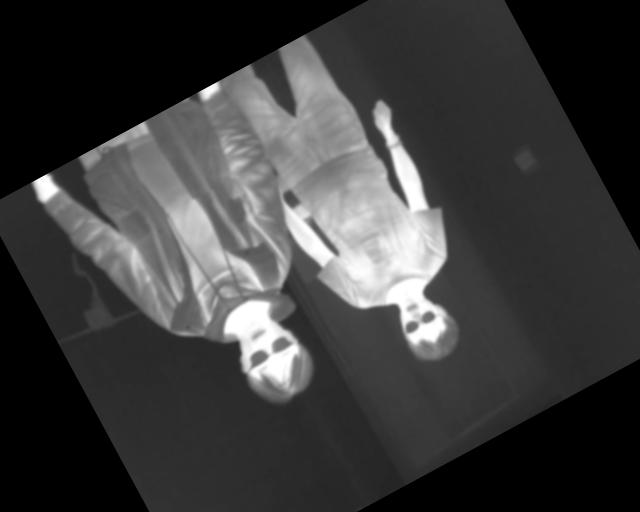face: (221, 303, 324, 415), (387, 283, 467, 370)
